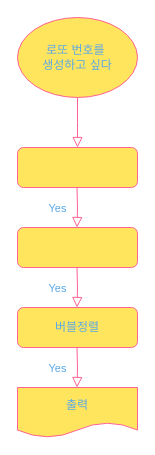
Image size: 155x455. Some labels were removed from this diagram. The centre of each missing label's shape, as x and y in pixels:
"난수생성" belongs at point 77,167.
"보너스 숫자 생성" belongs at point 77,247.
